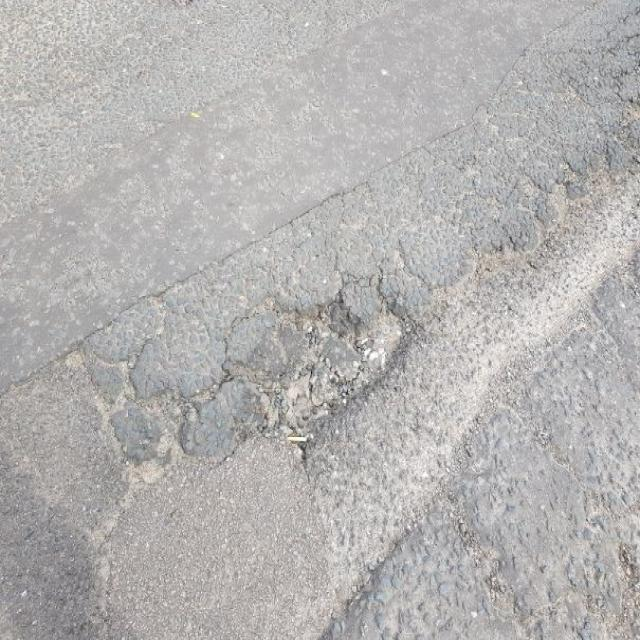Pothole: (144, 266, 420, 468)
